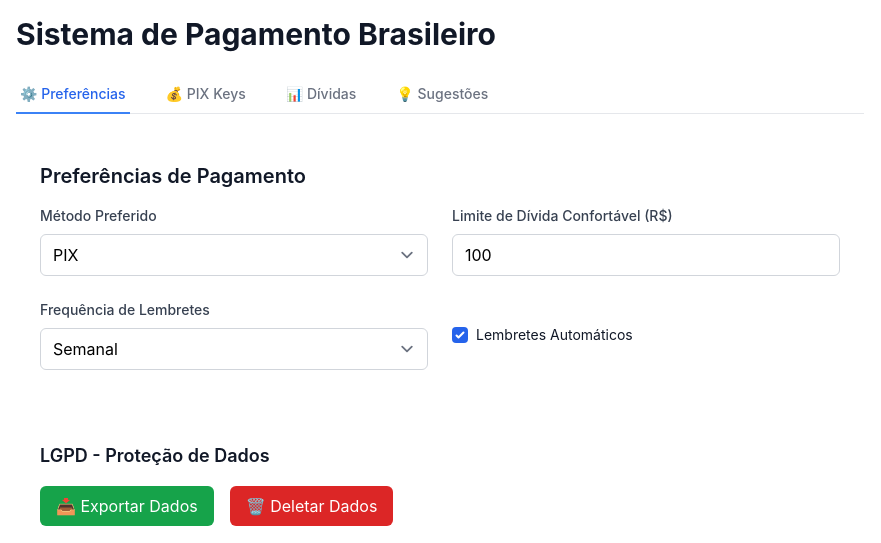
Payment Interface Tests › PIX Payment Interface Tests › should allow adding new PIX keys
Expected: the heading "Sistema de Pagamento Brasileiro" is shown, [16,16,496,52]
Note: Click on PIX tab
Click the button "💰 PIX Keys" at (206, 95), box [162,76,250,114]
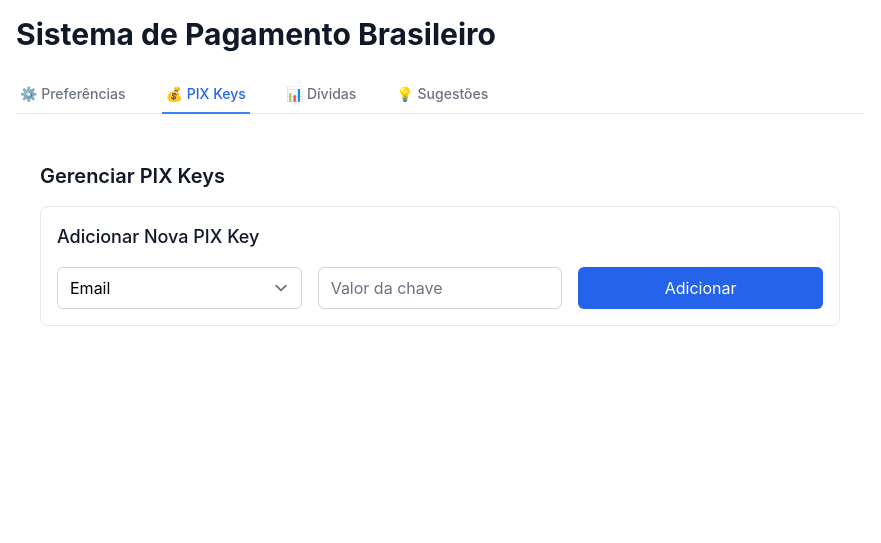
Expected: the heading "Adicionar Nova PIX Key" is shown, [57,226,259,247]
